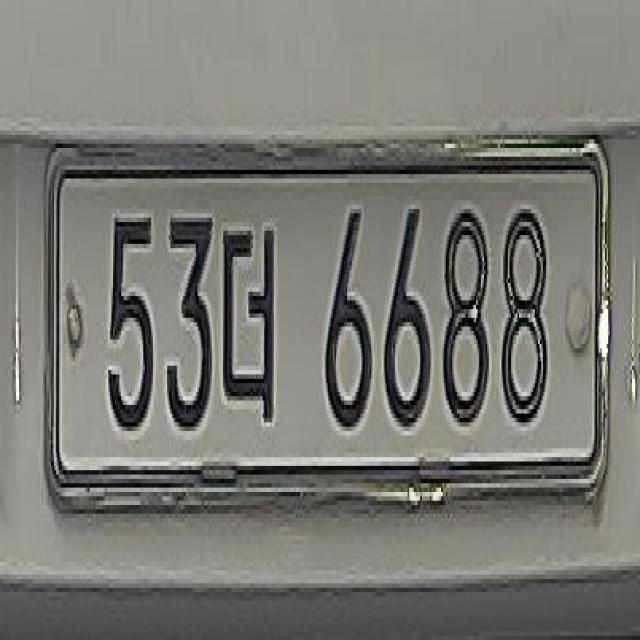3: (162, 200, 216, 457)
5: (94, 192, 159, 436)
6: (376, 213, 439, 444), (324, 205, 376, 452)
8: (433, 183, 498, 457), (497, 192, 557, 457)
deo: (218, 209, 290, 427)
license_plate: (48, 140, 616, 536)
